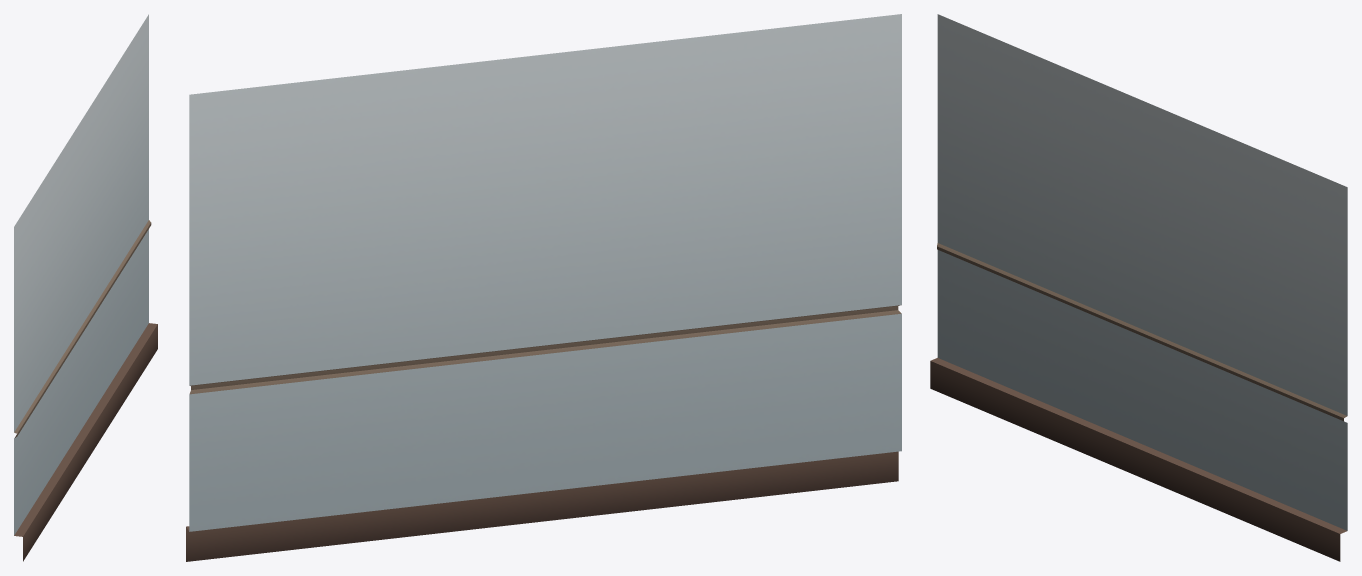
The model's file is Diagonal_trim.fbx.
3 renders of one model, left to right at view 1: azimuth 30°, elevation 25°; view 2: azimuth 150°, elevation 25°; view 3: azimuth 270°, elevation 25°, orthographic. The views are drawn at different scales.
Parts seen in each view (by area): view 1: Diagonal_trim; view 2: Diagonal_trim; view 3: Diagonal_trim.
Boxes of the visible parts, x1,y1,x2,y2 form: Diagonal_trim: (14,14,157,561); Diagonal_trim: (186,14,901,561); Diagonal_trim: (930,14,1347,561).
Size of the model in its own units: 305 by 300 by 305.
